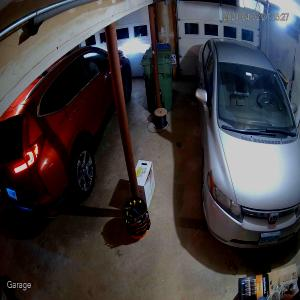garbage bin: (140, 42, 174, 114)
honda civic: (194, 37, 300, 250)
honda crv: (0, 45, 133, 223)
tool bucket: (121, 196, 151, 241)
